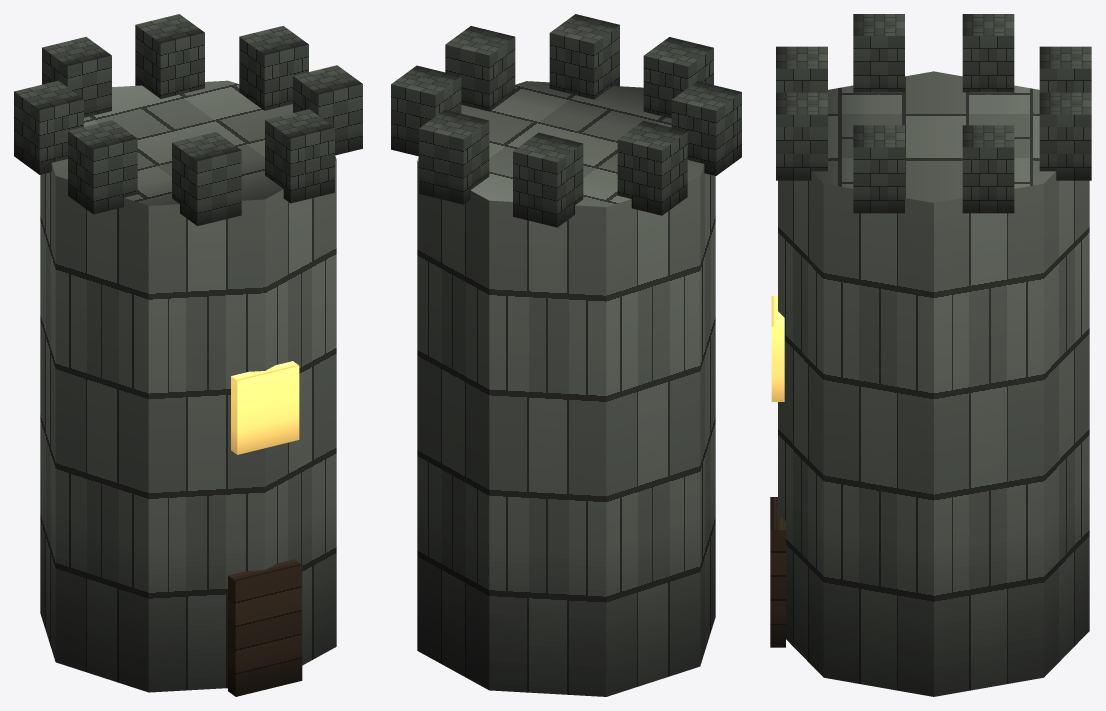
File: tower.glb
3 renders of one model, left to right at view 1: azimuth 30°, elevation 25°; view 2: azimuth 150°, elevation 25°; view 3: azimuth 270°, elevation 25°, orthographic.
Parts seen in each view (by area): view 1: tower; view 2: tower; view 3: tower.
Boxes of the visible parts, x1,y1,x2,y2 form: tower: (14, 14, 362, 696); tower: (391, 14, 741, 696); tower: (770, 14, 1091, 696).
Bounding box in the file's own units: 1.22 × 2.34 × 1.24.
Materials: 1 (1 with a texture image).
